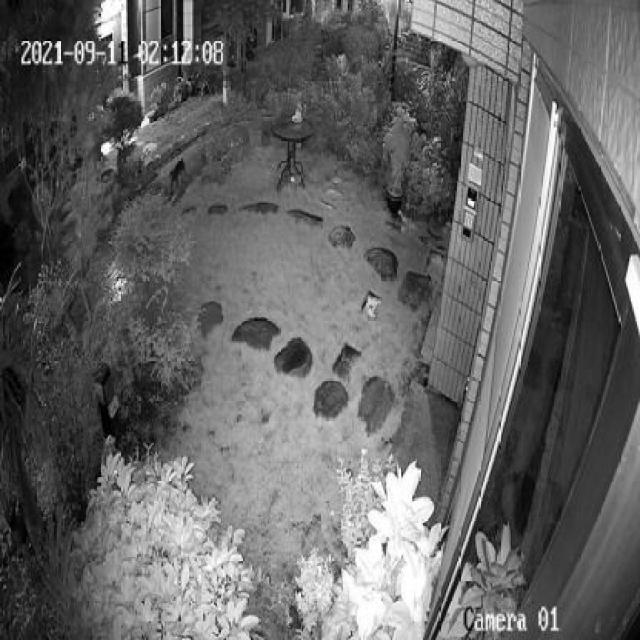animals: (166, 149, 191, 197)
